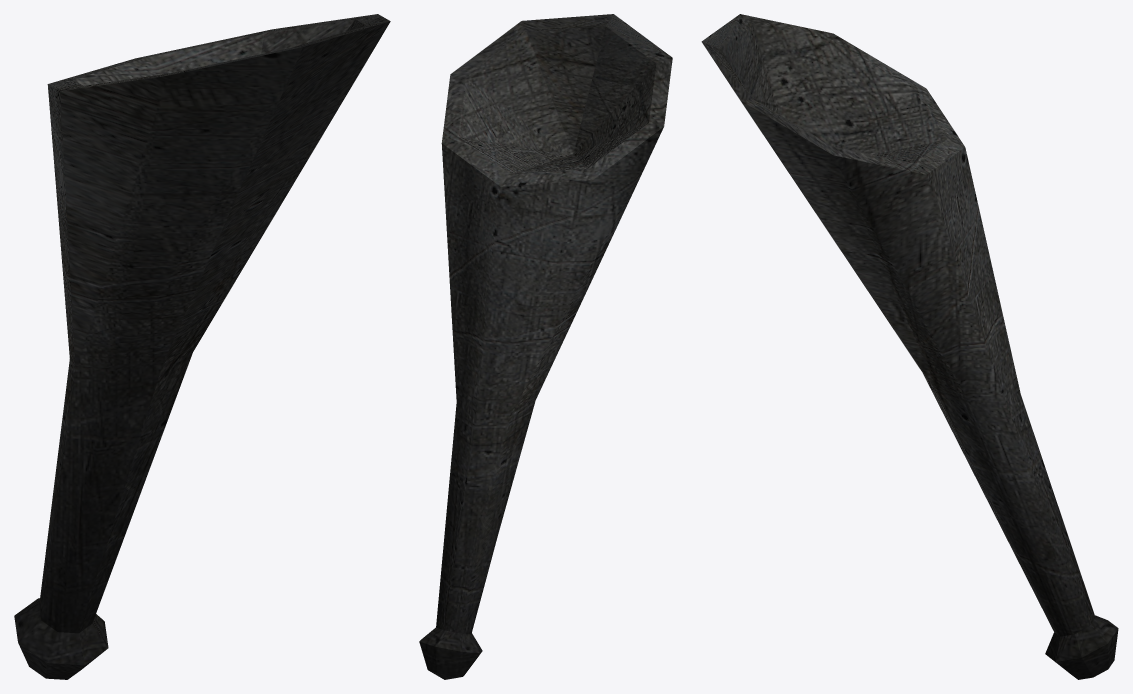
Rendered from torch.obj.
3 renders of one model, left to right at view 1: azimuth 30°, elevation 25°; view 2: azimuth 150°, elevation 25°; view 3: azimuth 270°, elevation 25°, orthographic. The views are drawn at different scales.
Parts seen in each view (by area): view 1: Cylinder003; view 2: Cylinder003; view 3: Cylinder003.
Part boxes in pixels (box(x1,y1,x2,y2)): Cylinder003: box(14, 14, 390, 679); Cylinder003: box(419, 14, 672, 679); Cylinder003: box(701, 14, 1118, 679).
Size of the model in its own units: 10.33 by 25.05 by 14.95.
